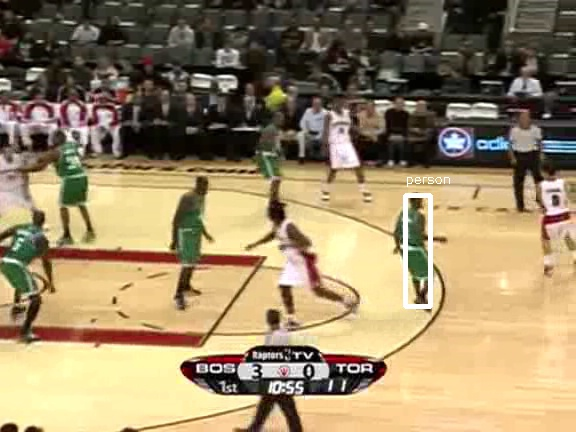person: (399, 209, 433, 290), (398, 209, 432, 290), (400, 209, 434, 290), (399, 208, 433, 289), (399, 210, 433, 291)
target_negative: (191, 297, 501, 406), (362, 260, 552, 322), (483, 169, 539, 355), (33, 173, 139, 252), (101, 378, 428, 383), (434, 386, 524, 402)
